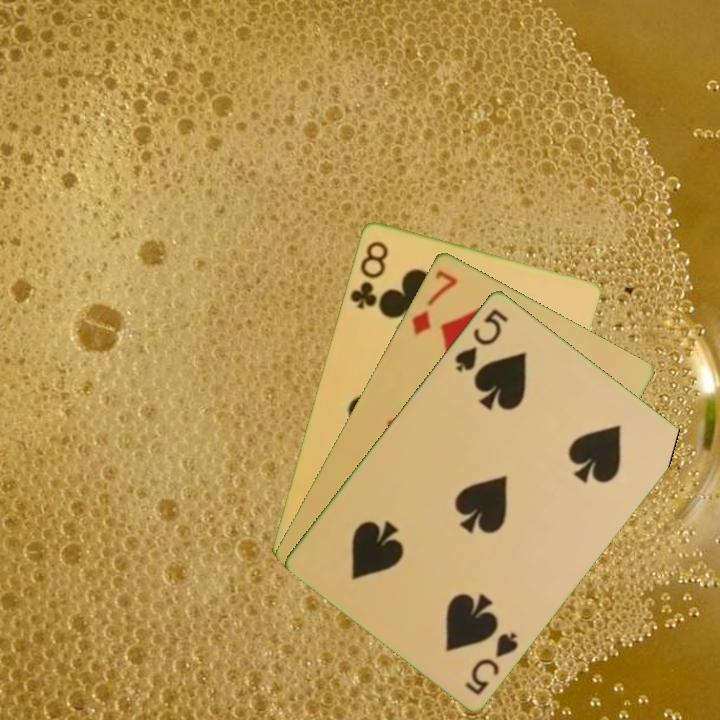5s: (461, 627, 522, 698), (451, 304, 512, 374)
7d: (408, 265, 461, 338)
8c: (346, 237, 391, 312)
